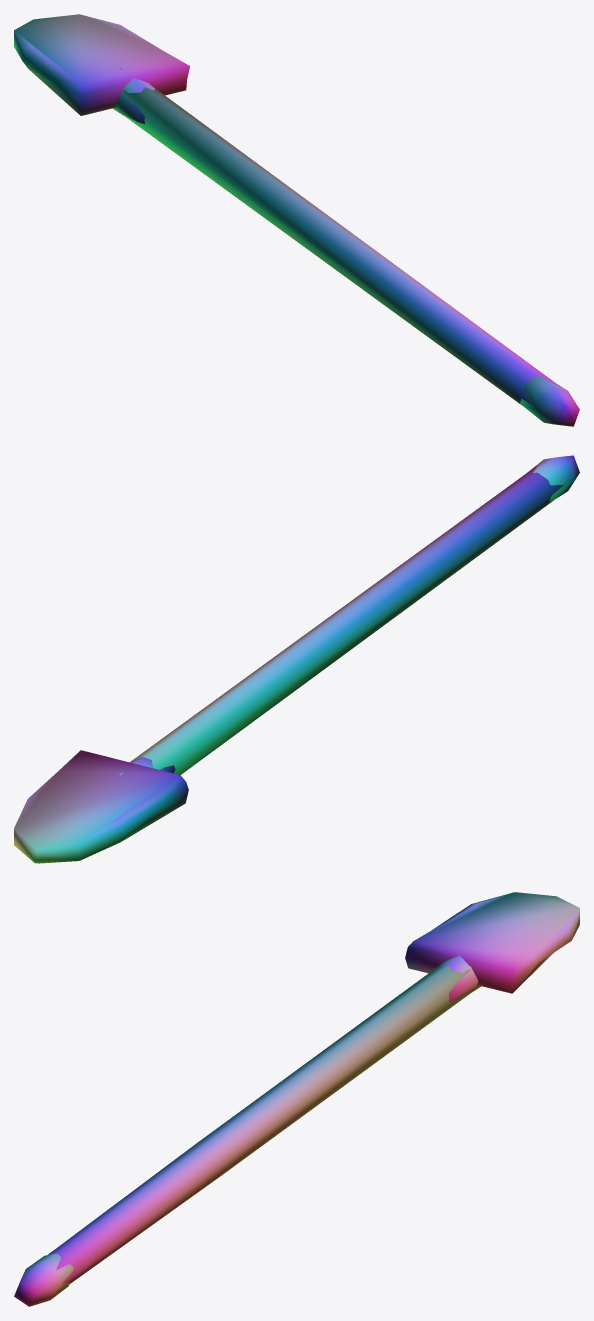
File: SM_MonWeapon_PitSpade_LOD1.fbx
3 renders of one model, top to bottom at view 1: azimuth 30°, elevation 25°; view 2: azimuth 150°, elevation 25°; view 3: azimuth 330°, elevation 25°, orthographic.
Parts seen in each view (by area): view 1: SM_MonWeapon_PitSpade_LOD1; view 2: SM_MonWeapon_PitSpade_LOD1; view 3: SM_MonWeapon_PitSpade_LOD1.
Boxes of the visible parts, x1,y1,x2,y2 form: SM_MonWeapon_PitSpade_LOD1: (14,14,579,426); SM_MonWeapon_PitSpade_LOD1: (14,455,579,863); SM_MonWeapon_PitSpade_LOD1: (14,892,579,1306).
Size of the model in its own units: 0.2348 by 0.0867 by 2.02.
